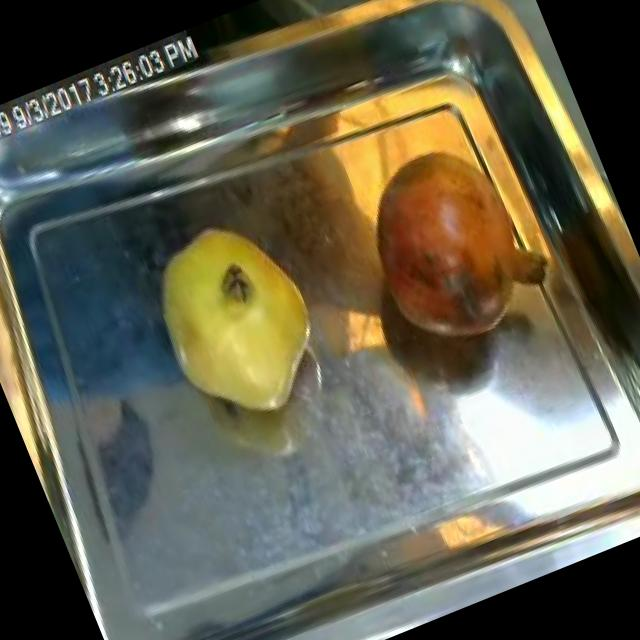fruit: (120, 188, 350, 448), (332, 120, 556, 372)
